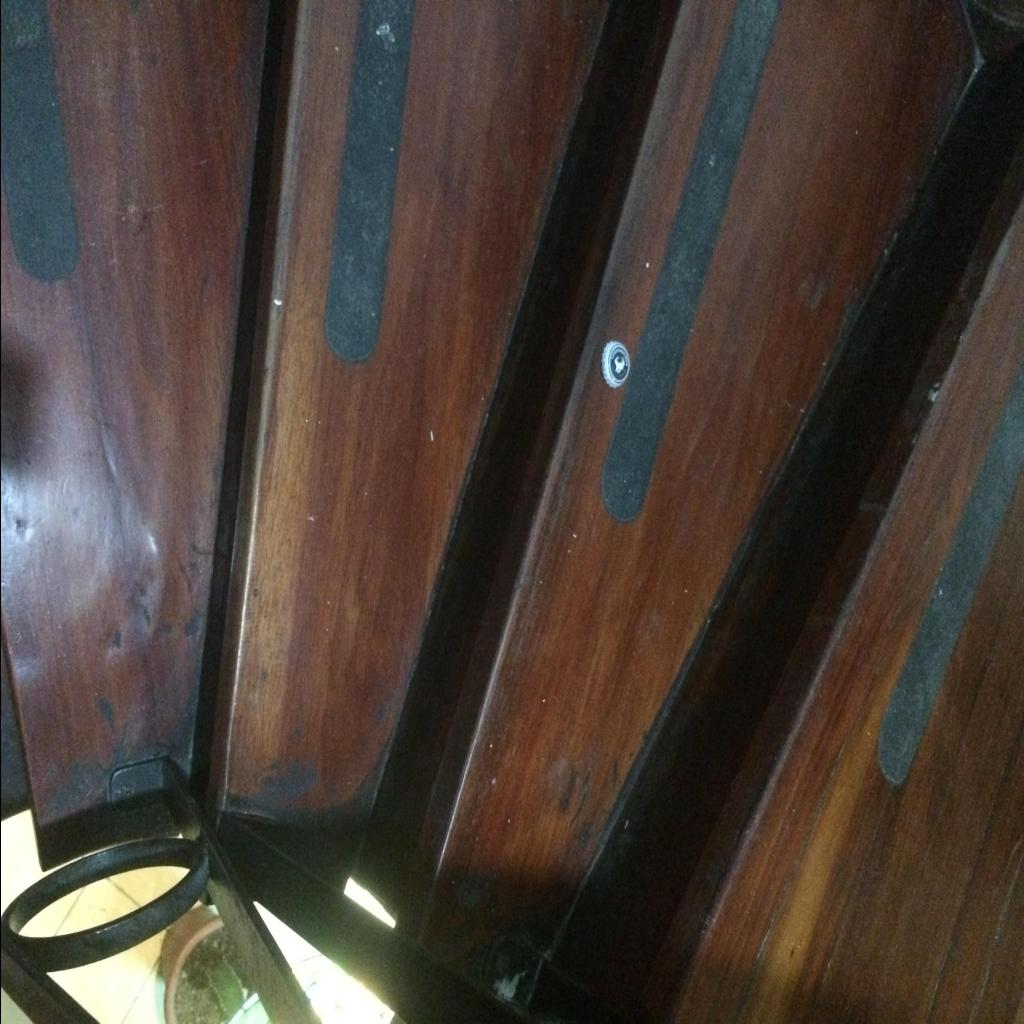Metal bottle cap: (601, 342, 629, 388)
